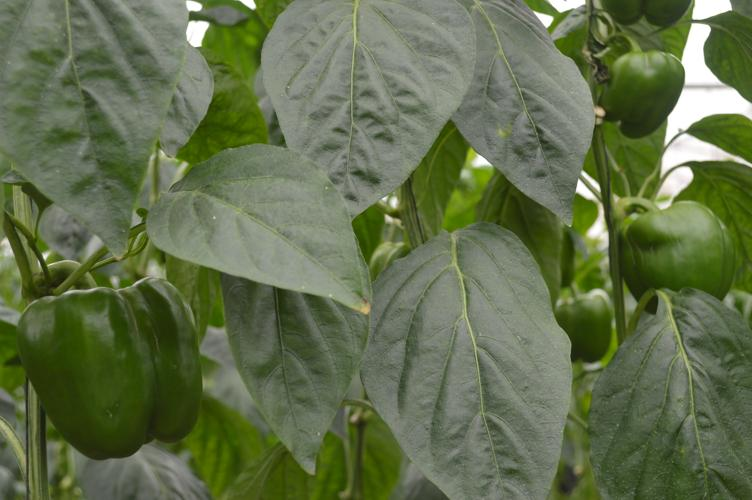BellPepper: (13, 290, 206, 458), (613, 189, 741, 326), (589, 36, 691, 153), (540, 267, 623, 368)
